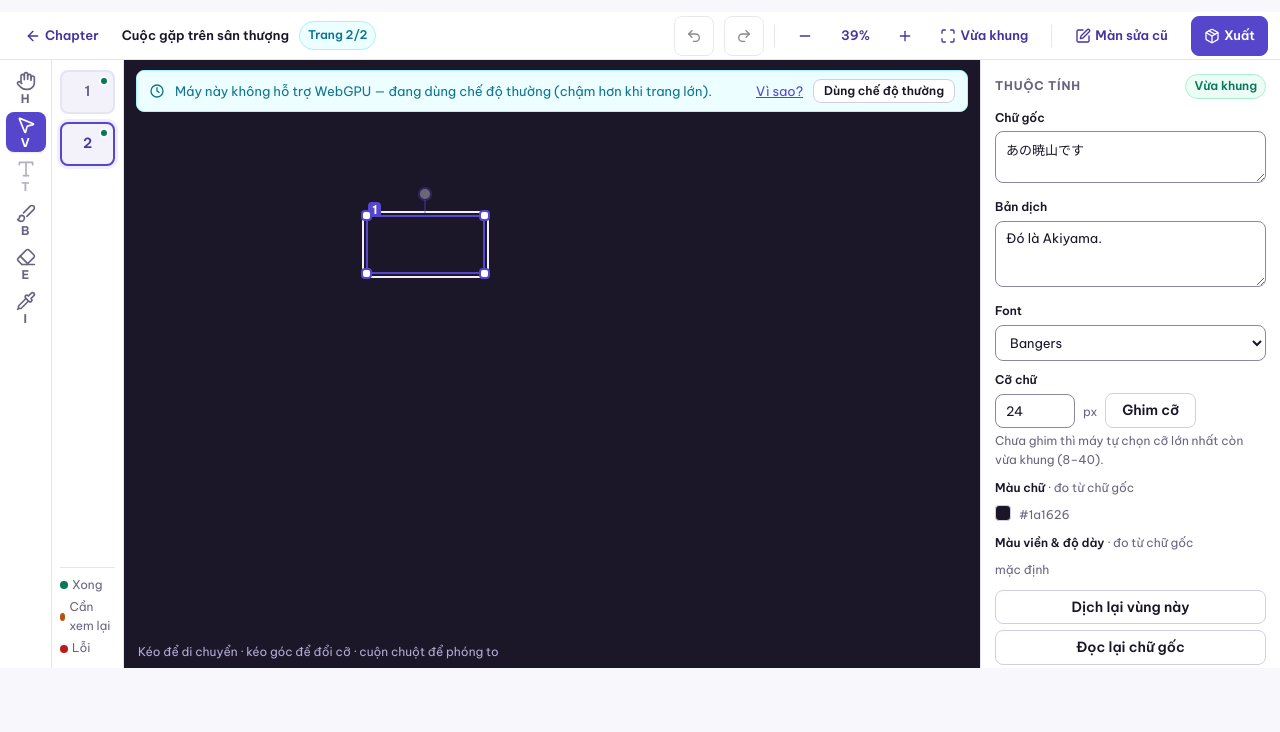
cọ xoá chữ › xoaVungTo nhận Blob PNG, chờ job rồi tải lại ảnh và dọn mặt nạ
The width and height of the screenshot is (1280, 732).
expect the button named "Về 100%" is shown: met, box [828,16,884,56]
expect the button named "Phóng to" is enabled: met, box [886,16,926,56]
Click the button named "Cọ xoá chữ, phím B": (26, 220) [6,200,46,240]
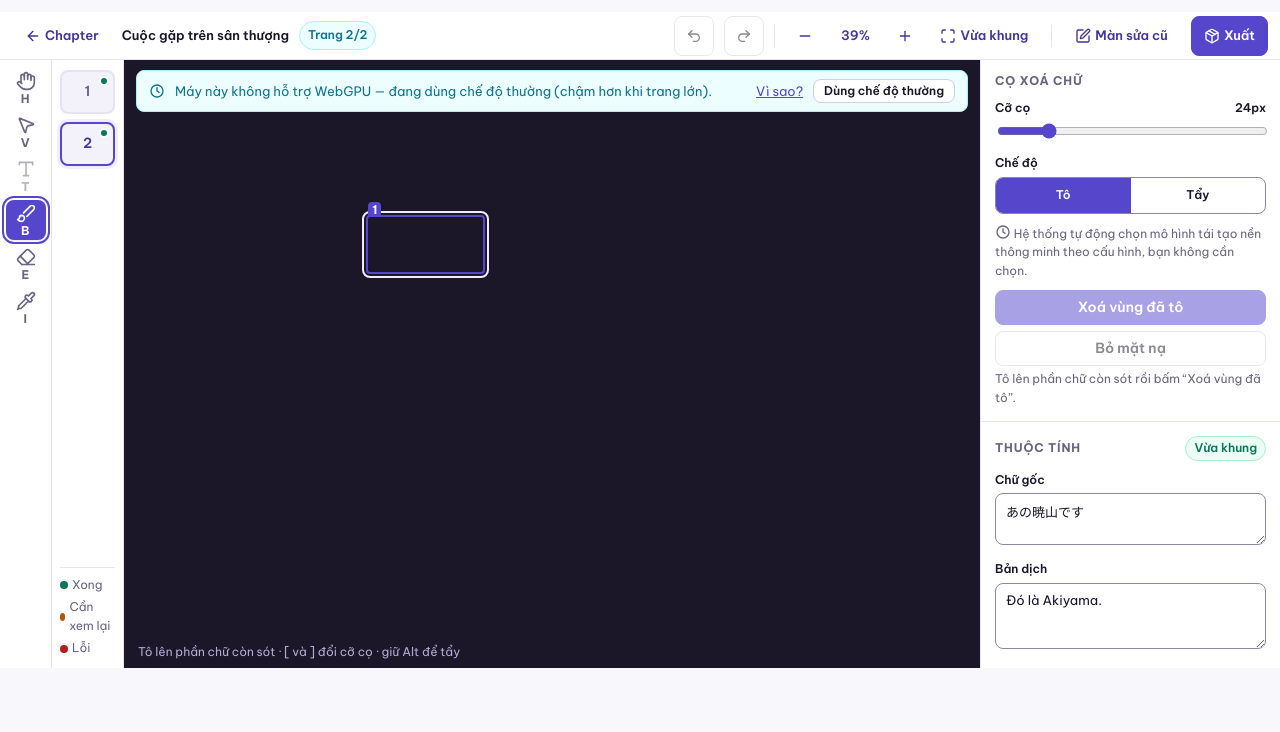
Press the mouse on the element with test id "cv-stage": (552, 375) [124,112,980,637]
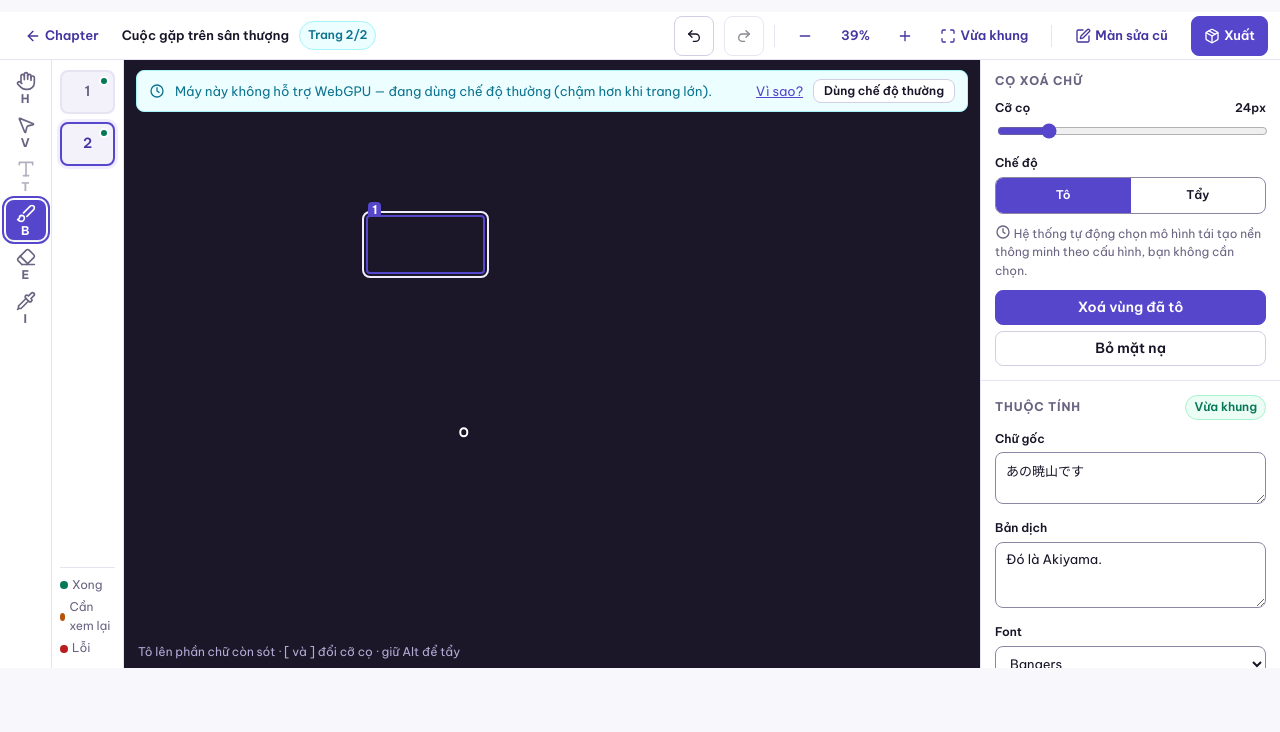
expect the button "Xoá vùng đã tô" is enabled: met
Click the button "Xoá vùng đã tô": (1130, 308) [995,290,1266,325]
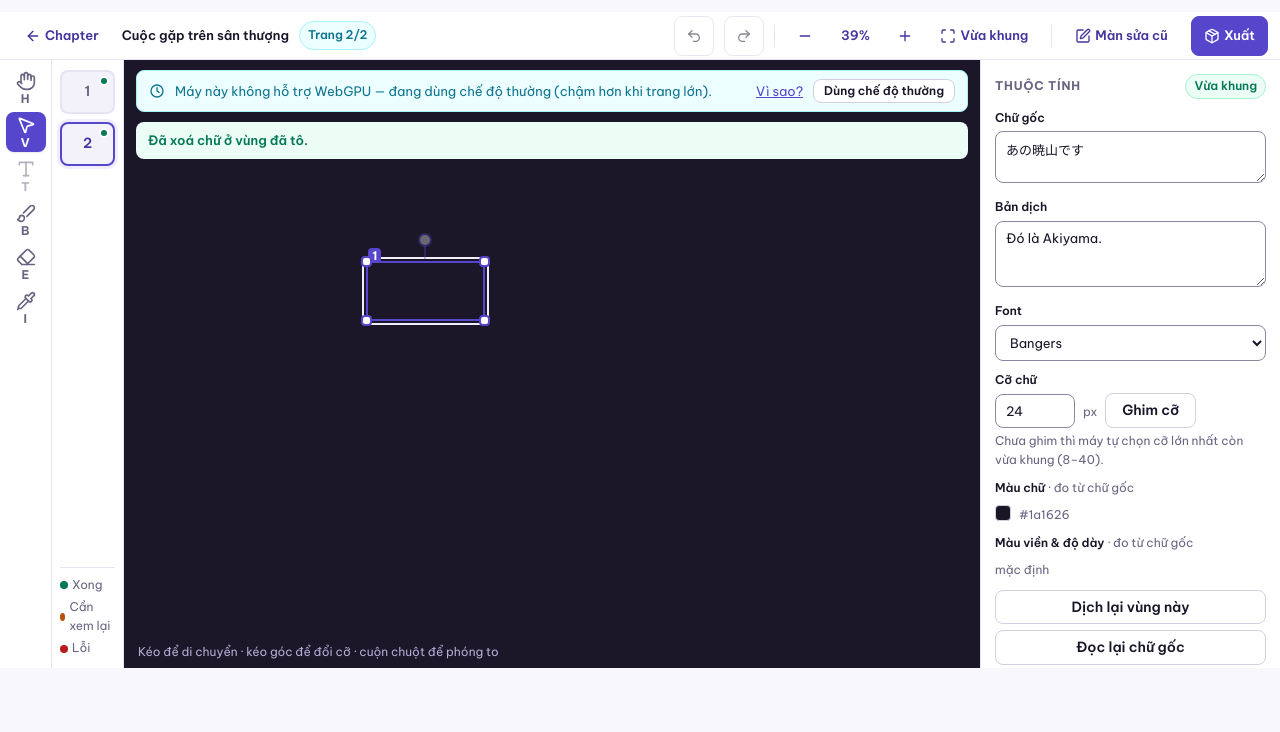
expect the button "Xoá vùng đã tô" is gone: met
